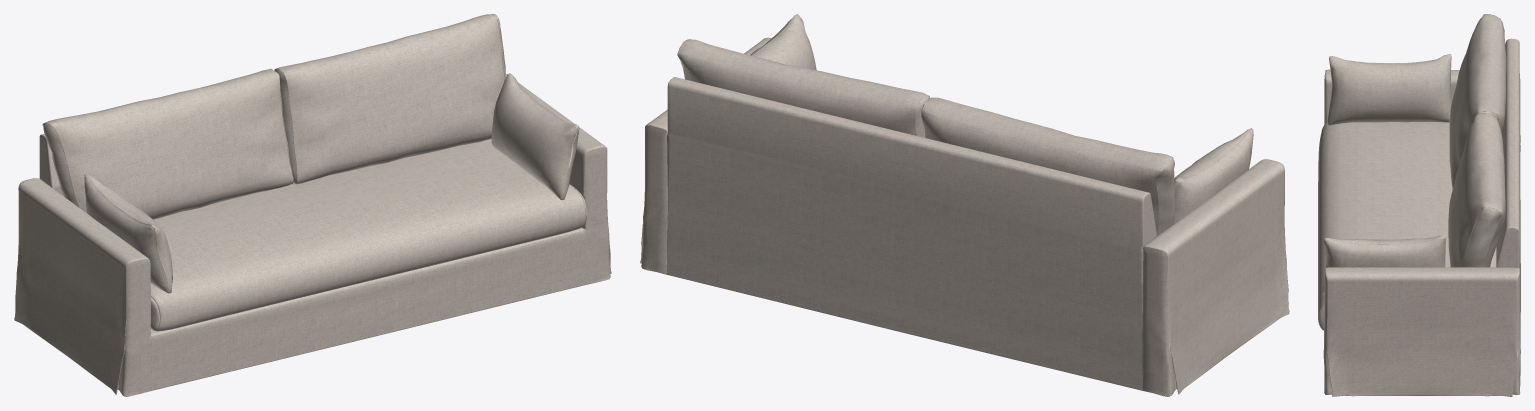
Rendered from 49 - HYLTARP - 三人座沙發，Gransel 自然色 IKEA 線上購物.glb.
The picture shows the model from 3 angles, left to right: view 1: azimuth 30°, elevation 25°; view 2: azimuth 150°, elevation 25°; view 3: azimuth 270°, elevation 25°; orthographic projection. The views are drawn at different scales.
Visible parts, largest first — view 1: Mesh_0; view 2: Mesh_0; view 3: Mesh_0.
Part boxes in pixels (x1=…): Mesh_0: x1=14, y1=14, x2=611, y2=396; Mesh_0: x1=640, y1=14, x2=1289, y2=396; Mesh_0: x1=1318, y1=14, x2=1520, y2=396.
Bounding box in the file's own units: 2.32 × 0.9101 × 0.9305.
1 material, 1 textured.
